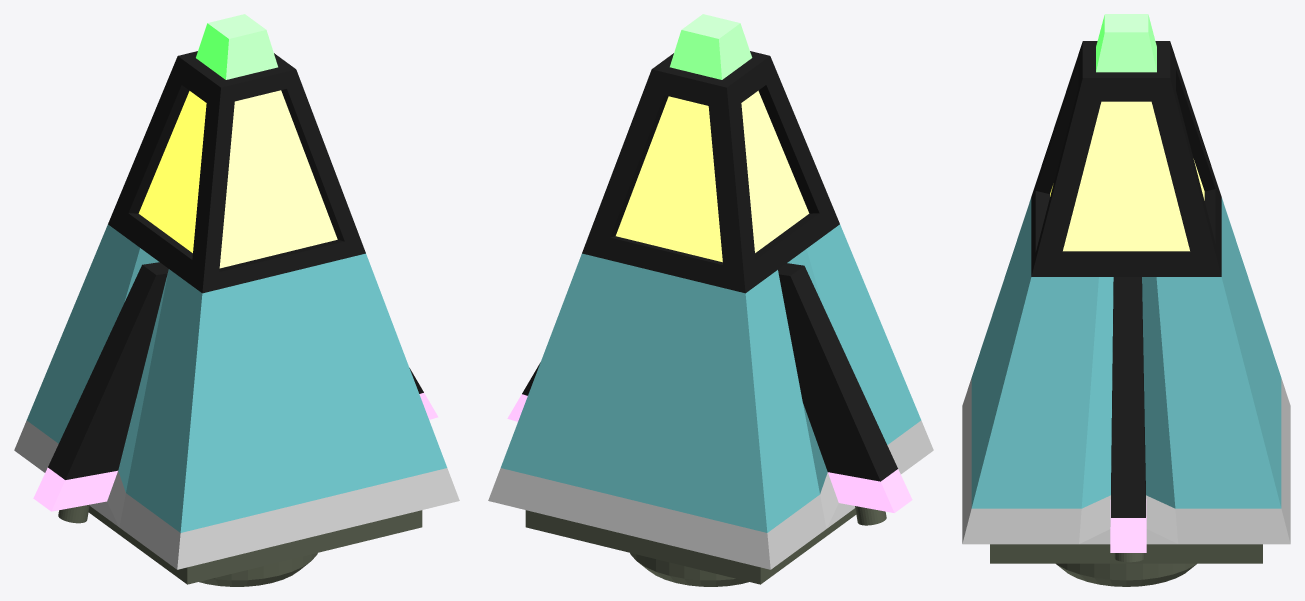
The model's file is SpaceCraft.fbx.
The picture shows the model from 3 angles, left to right: view 1: azimuth 30°, elevation 25°; view 2: azimuth 150°, elevation 25°; view 3: azimuth 270°, elevation 25°; orthographic projection.
Parts seen in each view (by area): view 1: Cube; view 2: Cube; view 3: Cube.
Part boxes in pixels (<box>): Cube: <box>14,14,459,586</box>; Cube: <box>488,14,933,586</box>; Cube: <box>962,14,1290,586</box>.
Bounding box in the file's own units: 2.74 × 3.59 × 2.
